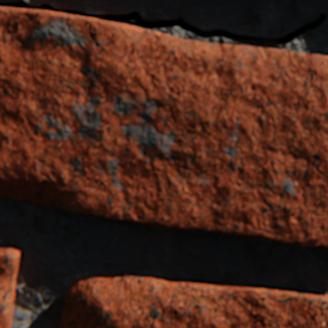brick: (0, 7, 327, 247), (59, 273, 327, 327)
broken_brick: (0, 247, 21, 327)
crack: (0, 0, 327, 46)
